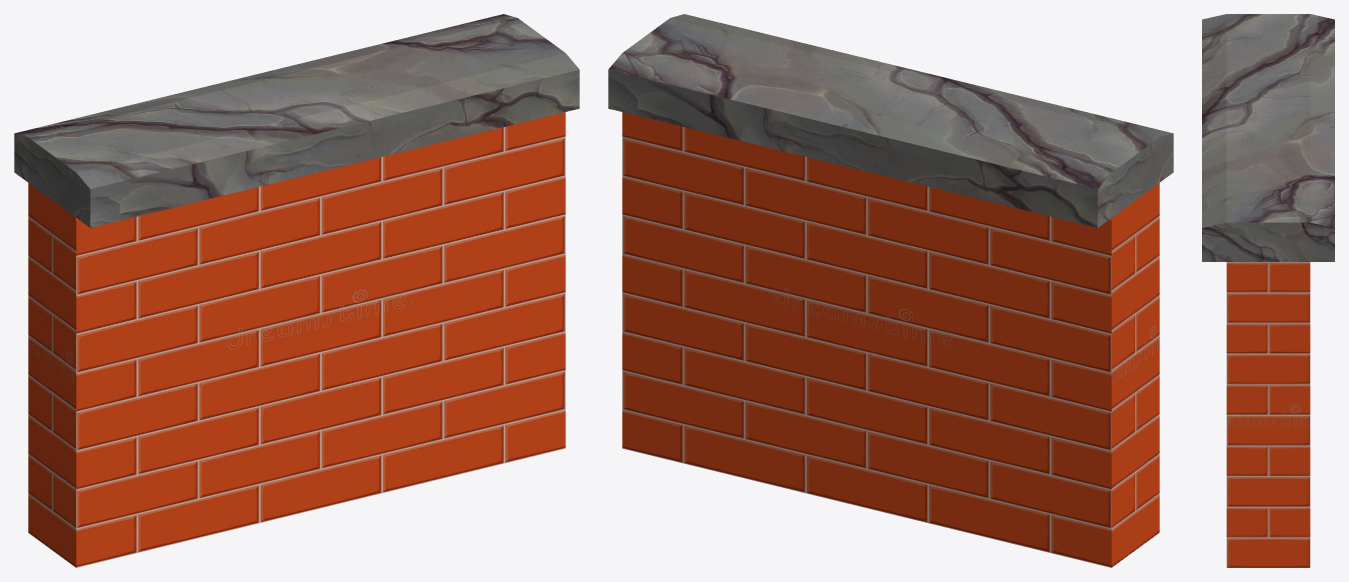
The model's file is Full_wall.fbx.
The picture shows the model from 3 angles, left to right: view 1: azimuth 30°, elevation 25°; view 2: azimuth 150°, elevation 25°; view 3: azimuth 270°, elevation 25°; orthographic projection. The views are drawn at different scales.
Visible parts, largest first — view 1: Mur plein; view 2: Mur plein; view 3: Mur plein.
Boxes of the visible parts, box(x1,y1,x2,y2) form: Mur plein: box(14, 14, 579, 567); Mur plein: box(608, 14, 1173, 567); Mur plein: box(1202, 14, 1334, 567).
Bounding box in the file's own units: 100 × 77.43 × 27.01.
Materials: 2 (2 with a texture image).
